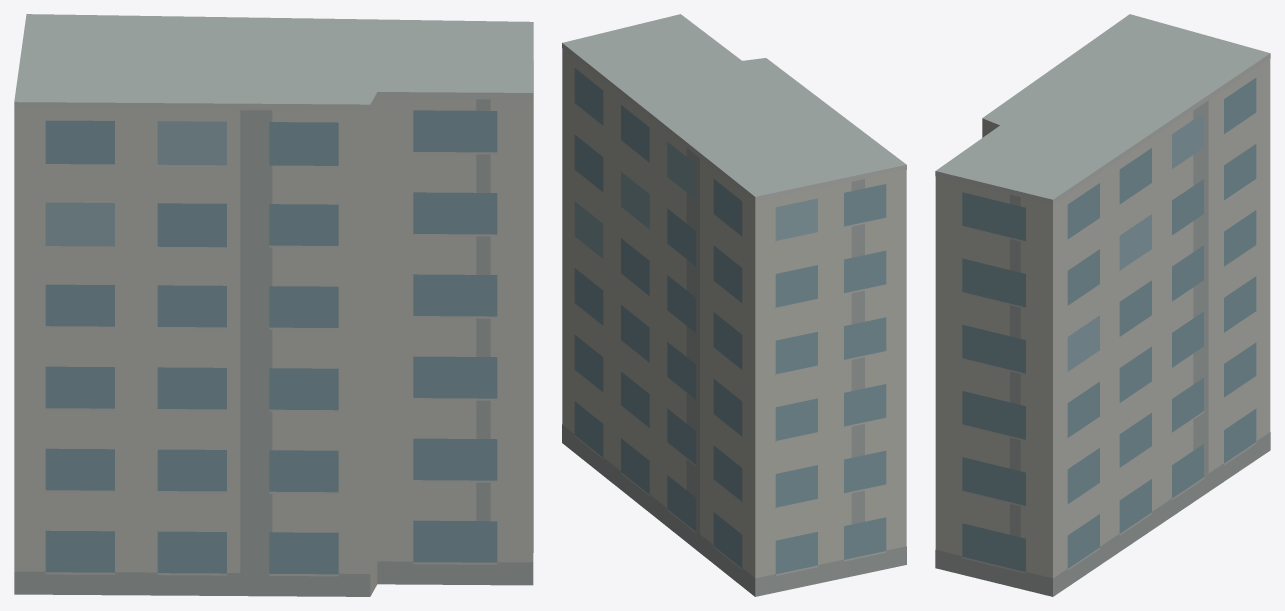
File: survey-upis-32785775.glb
3 renders of one model, left to right at view 1: azimuth 30°, elevation 25°; view 2: azimuth 150°, elevation 25°; view 3: azimuth 270°, elevation 25°, orthographic. The views are drawn at different scales.
Visible parts, largest first — view 1: survey-upis-32785775.tmp; view 2: survey-upis-32785775.tmp; view 3: survey-upis-32785775.tmp.
Part boxes in pixels (x1=…): survey-upis-32785775.tmp: x1=14, y1=14, x2=533, y2=596; survey-upis-32785775.tmp: x1=562, y1=14, x2=906, y2=596; survey-upis-32785775.tmp: x1=935, y1=14, x2=1270, y2=596.
Size of the model in its own units: 18.36 by 18.3 by 14.
